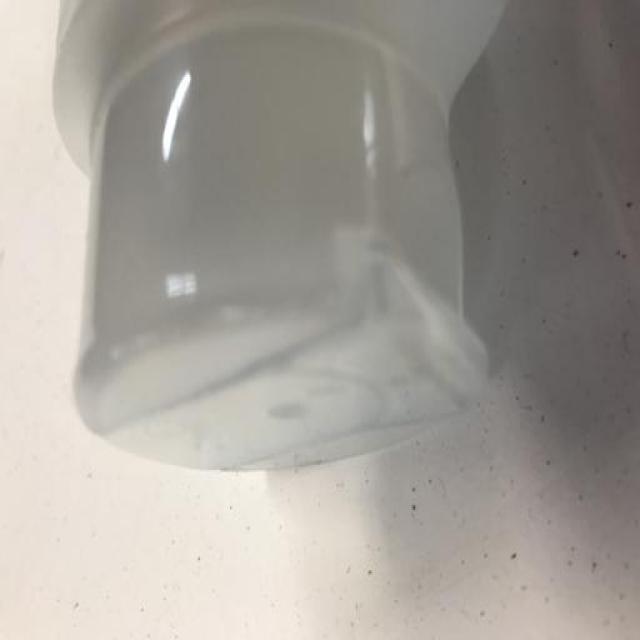Plastic: (52, 0, 508, 473)
